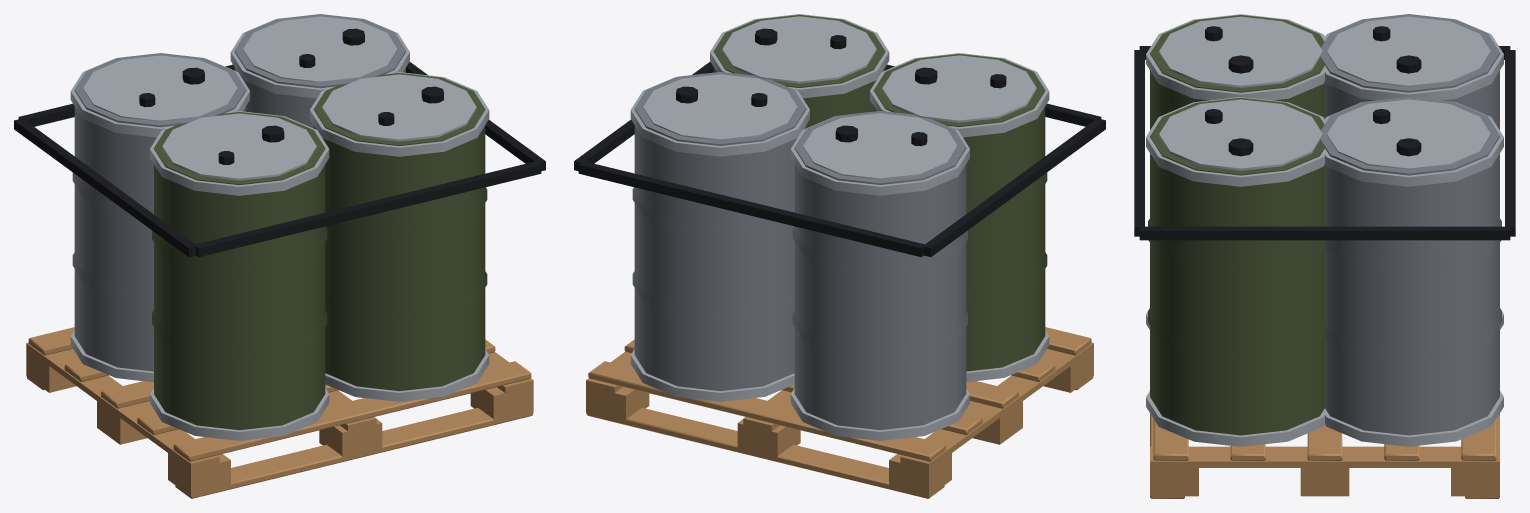
File: pallet_drums_banded.glb
3 renders of one model, left to right at view 1: azimuth 30°, elevation 25°; view 2: azimuth 150°, elevation 25°; view 3: azimuth 270°, elevation 25°, orthographic. The views are drawn at different scales.
Parts seen in each view (by area): view 1: pallet_drums_banded; view 2: pallet_drums_banded; view 3: pallet_drums_banded.
Boxes of the visible parts, box(x1,y1,x2,y2) form: pallet_drums_banded: box(14, 14, 545, 498); pallet_drums_banded: box(574, 14, 1105, 498); pallet_drums_banded: box(1134, 14, 1515, 498).
Size of the model in its own units: 1.25 by 1.03 by 1.09.
